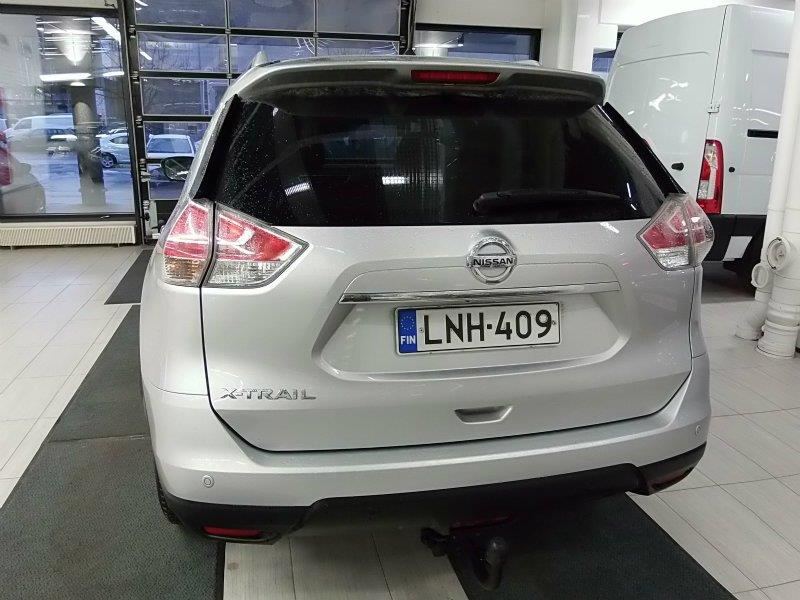license: (397, 301, 559, 354)
